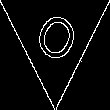O_SW: (28, 4, 82, 70)
